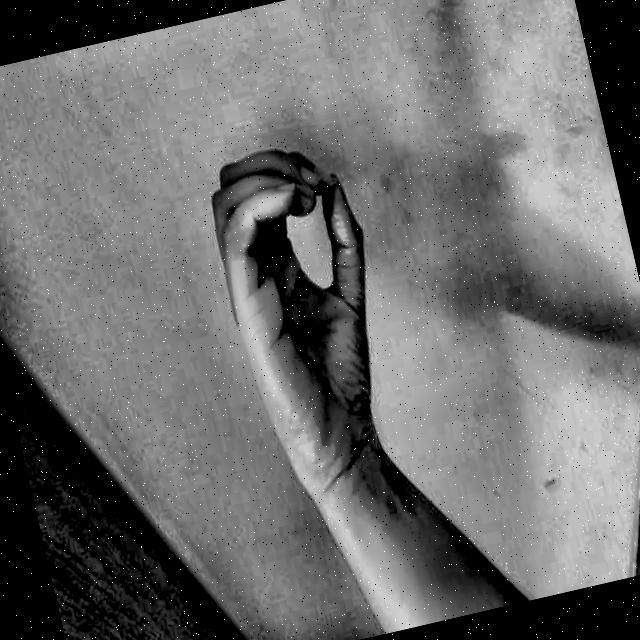O: (173, 102, 424, 506)
